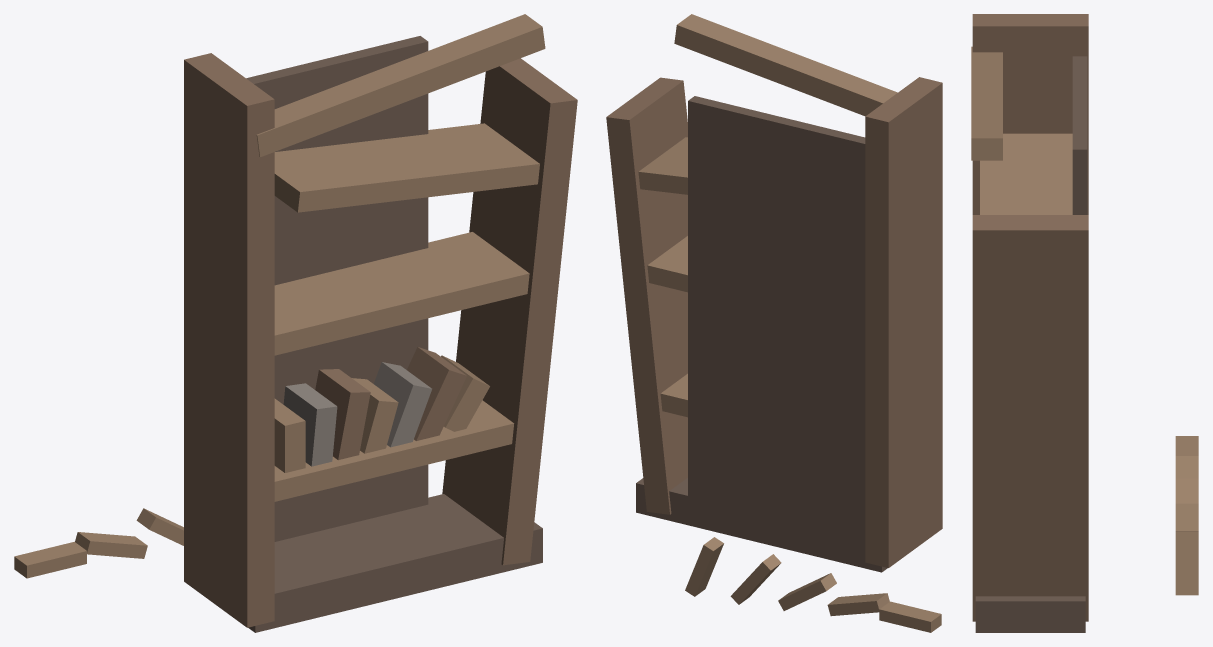
File: Smashed_Bookshelf.glb
3 renders of one model, left to right at view 1: azimuth 30°, elevation 25°; view 2: azimuth 150°, elevation 25°; view 3: azimuth 270°, elevation 25°, orthographic. The views are drawn at different scales.
Parts seen in each view (by area): view 1: Smashed_Bookshelf_piece_001, Smashed_Bookshelf_piece_002, Smashed_Bookshelf_piece_007, Smashed_Bookshelf_piece_000, Smashed_Bookshelf_piece_005, Smashed_Bookshelf_piece_006, Smashed_Bookshelf_piece_003, Smashed_Bookshelf_piece_004, Smashed_Bookshelf_piece_010, Smashed_Bookshelf_piece_013, Smashed_Bookshelf_piece_009, Smashed_Bookshelf_piece_012 (+6 smaller); view 2: Smashed_Bookshelf_piece_007, Smashed_Bookshelf_piece_001, Smashed_Bookshelf_piece_002, Smashed_Bookshelf_piece_003, Smashed_Bookshelf_piece_000, Smashed_Bookshelf_piece_006, Smashed_Bookshelf_piece_005, Smashed_Bookshelf_piece_015, Smashed_Bookshelf_piece_019, Smashed_Bookshelf_piece_016, Smashed_Bookshelf_piece_017, Smashed_Bookshelf_piece_018 (+1 smaller); view 3: Smashed_Bookshelf_piece_002, Smashed_Bookshelf_piece_001, Smashed_Bookshelf_piece_006, Smashed_Bookshelf_piece_000, Smashed_Bookshelf_piece_003, Smashed_Bookshelf_piece_007, Smashed_Bookshelf_piece_019, Smashed_Bookshelf_piece_018, Smashed_Bookshelf_piece_017, Smashed_Bookshelf_piece_016, Smashed_Bookshelf_piece_015.
Part boxes in pixels (x1,y1,x2,y2): Smashed_Bookshelf_piece_001: [184, 53, 274, 627]; Smashed_Bookshelf_piece_002: [442, 58, 577, 565]; Smashed_Bookshelf_piece_007: [246, 36, 428, 541]; Smashed_Bookshelf_piece_000: [248, 494, 542, 632]; Smashed_Bookshelf_piece_005: [274, 232, 529, 355]; Smashed_Bookshelf_piece_006: [274, 123, 539, 212]; Smashed_Bookshelf_piece_003: [256, 14, 545, 157]; Smashed_Bookshelf_piece_004: [274, 400, 514, 501]; Smashed_Bookshelf_piece_010: [315, 369, 370, 459]; Smashed_Bookshelf_piece_013: [407, 347, 466, 440]; Smashed_Bookshelf_piece_009: [283, 383, 337, 466]; Smashed_Bookshelf_piece_012: [374, 362, 431, 447]; Smashed_Bookshelf_piece_007: [688, 96, 865, 548]; Smashed_Bookshelf_piece_001: [865, 77, 942, 567]; Smashed_Bookshelf_piece_002: [606, 77, 687, 514]; Smashed_Bookshelf_piece_003: [674, 14, 897, 116]; Smashed_Bookshelf_piece_000: [636, 478, 887, 572]; Smashed_Bookshelf_piece_006: [638, 137, 687, 194]; Smashed_Bookshelf_piece_005: [647, 236, 687, 292]; Smashed_Bookshelf_piece_015: [879, 601, 941, 632]; Smashed_Bookshelf_piece_019: [685, 537, 723, 596]; Smashed_Bookshelf_piece_016: [827, 593, 889, 616]; Smashed_Bookshelf_piece_017: [778, 573, 836, 610]; Smashed_Bookshelf_piece_018: [730, 554, 781, 604]; Smashed_Bookshelf_piece_002: [972, 215, 1088, 621]; Smashed_Bookshelf_piece_001: [972, 14, 1088, 214]; Smashed_Bookshelf_piece_006: [980, 133, 1072, 214]; Smashed_Bookshelf_piece_000: [975, 596, 1085, 632]; Smashed_Bookshelf_piece_003: [971, 46, 1002, 160]; Smashed_Bookshelf_piece_007: [1072, 56, 1087, 214]; Smashed_Bookshelf_piece_019: [1175, 531, 1198, 595]; Smashed_Bookshelf_piece_018: [1175, 503, 1198, 530]; Smashed_Bookshelf_piece_017: [1175, 478, 1198, 503]; Smashed_Bookshelf_piece_016: [1175, 456, 1198, 478]; Smashed_Bookshelf_piece_015: [1175, 436, 1198, 455].
Size of the model in its own units: 1.61 by 1.95 by 0.785.
